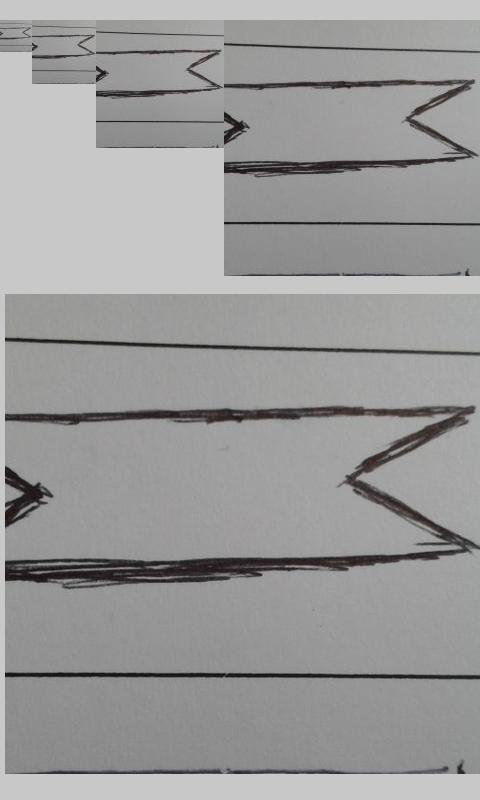edit_text: (3, 406, 478, 579), (223, 79, 476, 173), (96, 49, 221, 96), (32, 34, 95, 58), (1, 27, 31, 39)
